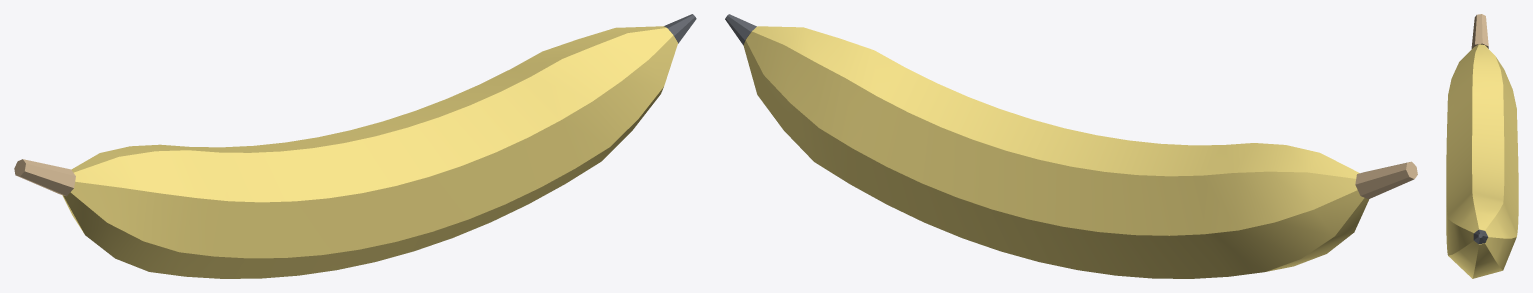
Rendered from fresh-produce-and-groceries-banana-single-19bed997__24333.glb.
3 renders of one model, left to right at view 1: azimuth 30°, elevation 25°; view 2: azimuth 150°, elevation 25°; view 3: azimuth 270°, elevation 25°, orthographic. The views are drawn at different scales.
Visible parts, largest first — view 1: banana-single; view 2: banana-single; view 3: banana-single.
Part boxes in pixels (box(x1,y1,x2,y2)): banana-single: box(14, 14, 696, 278); banana-single: box(725, 14, 1417, 278); banana-single: box(1446, 14, 1518, 278).
Bounding box in the file's own units: 0.204 × 0.0521 × 0.0295.
